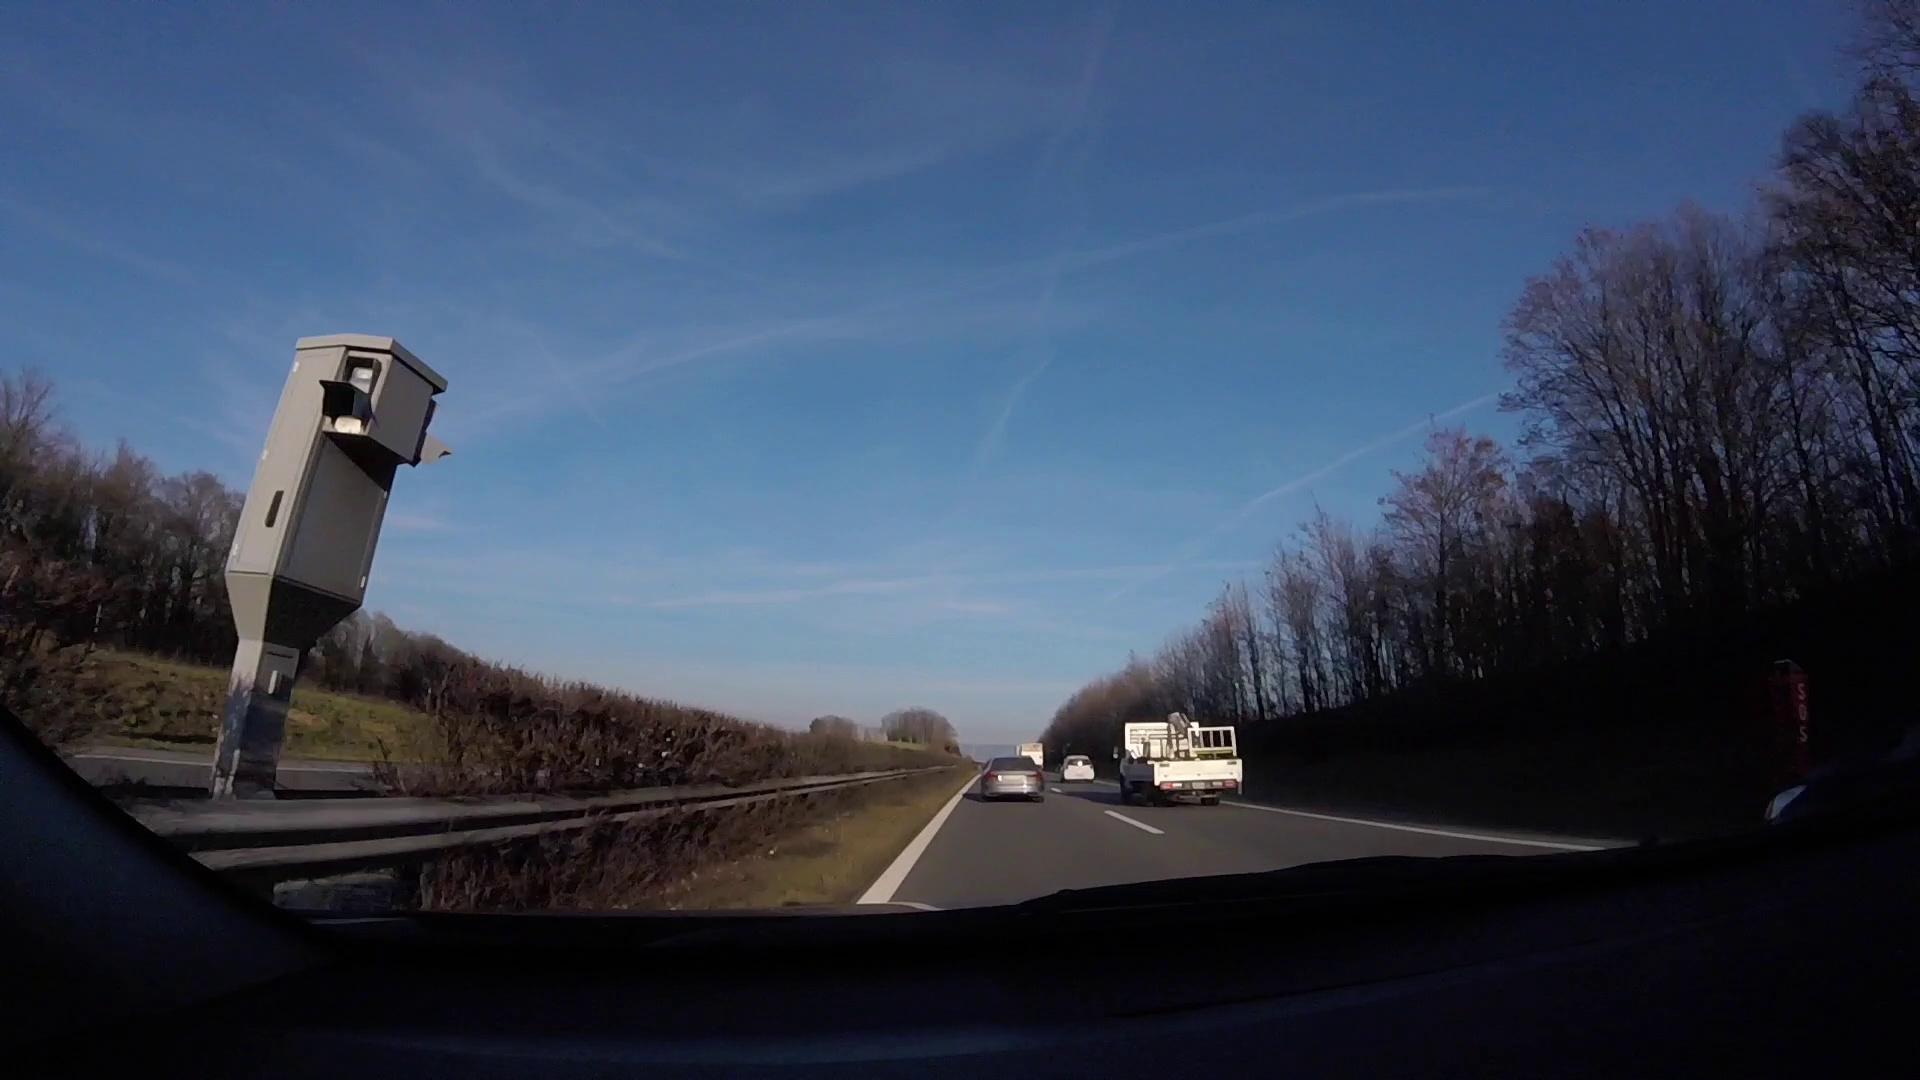radar: (218, 335, 446, 741)
